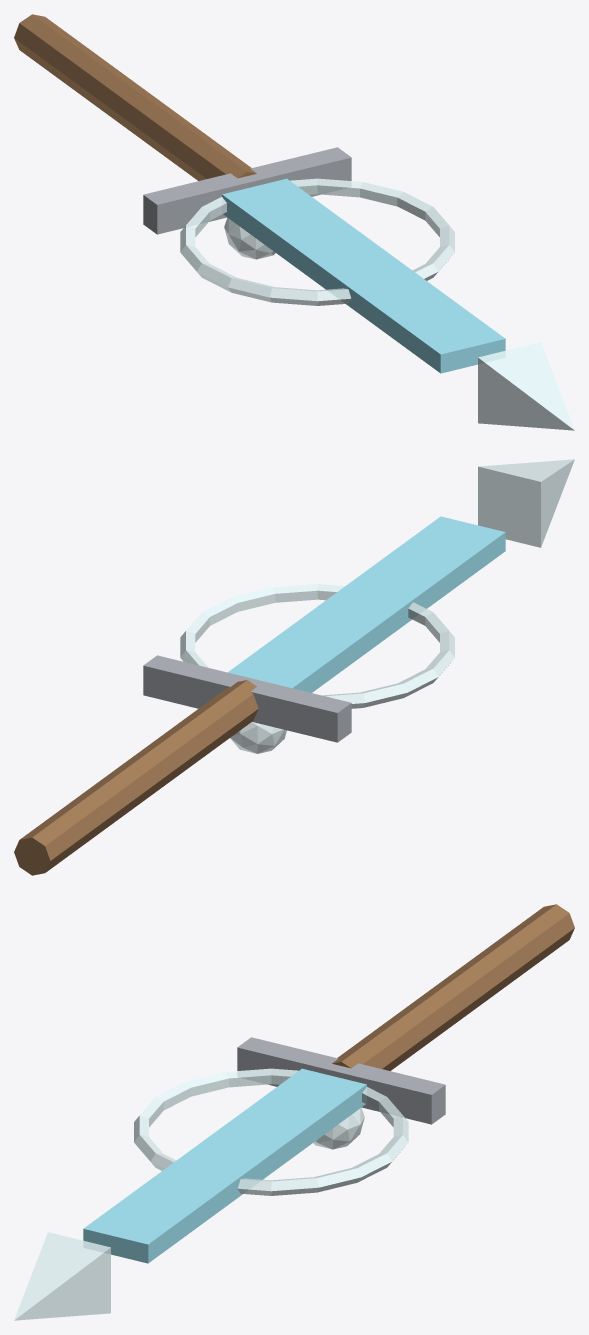
File: 03_magic_weapon_upgrade.glb
3 renders of one model, top to bottom at view 1: azimuth 30°, elevation 25°; view 2: azimuth 150°, elevation 25°; view 3: azimuth 330°, elevation 25°, orthographic.
Parts seen in each view (by area): view 1: enchanted_blade_or_focus, weapon_handle, rune_orbit, weapon_guard, weapon_tip, gem_socket; view 2: enchanted_blade_or_focus, weapon_handle, weapon_guard, weapon_tip, rune_orbit, gem_socket; view 3: enchanted_blade_or_focus, weapon_handle, rune_orbit, weapon_guard, weapon_tip, gem_socket.
Part boxes in pixels (x1,y1,x2,y2): enchanted_blade_or_focus: [222, 178, 505, 373]; weapon_handle: [14, 14, 256, 180]; rune_orbit: [180, 178, 454, 305]; weapon_guard: [143, 147, 351, 234]; weapon_tip: [478, 342, 574, 430]; gem_socket: [224, 217, 275, 259]; enchanted_blade_or_focus: [228, 516, 505, 692]; weapon_handle: [14, 680, 258, 875]; weapon_guard: [143, 655, 351, 742]; weapon_tip: [478, 459, 574, 547]; rune_orbit: [180, 584, 454, 708]; gem_socket: [230, 722, 286, 753]; enchanted_blade_or_focus: [83, 1068, 366, 1263]; weapon_handle: [332, 904, 574, 1070]; rune_orbit: [134, 1068, 408, 1195]; weapon_guard: [237, 1037, 445, 1124]; weapon_tip: [14, 1232, 110, 1320]; gem_socket: [313, 1107, 364, 1149].
Size of the model in its own units: 0.596 by 0.2178 by 2.32.
